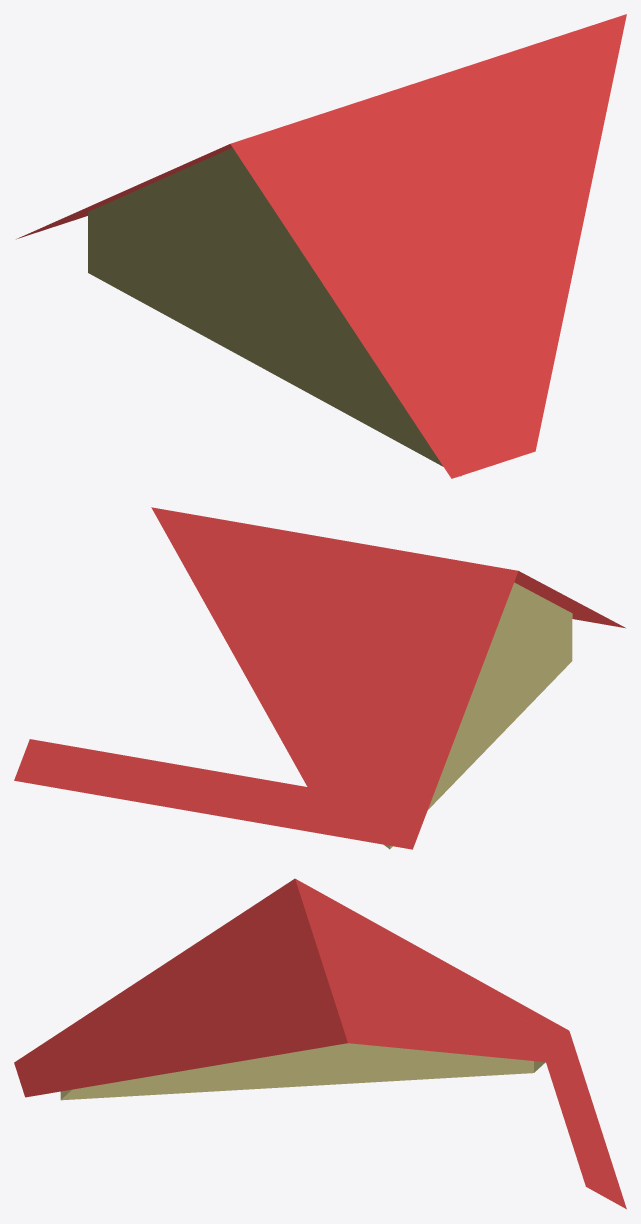
3 renders of one model, top to bottom at view 1: azimuth 30°, elevation 25°; view 2: azimuth 150°, elevation 25°; view 3: azimuth 270°, elevation 25°, orthographic. The views are drawn at different scales.
Bounding box in the file's own units: 7.76 × 11.1 × 3.81.
